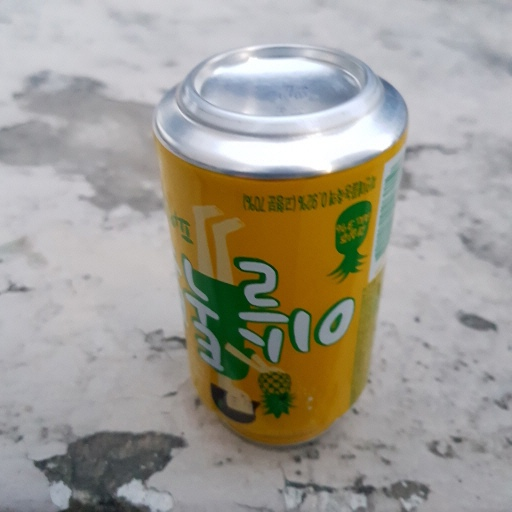Metal_0: (145, 44, 412, 448)
